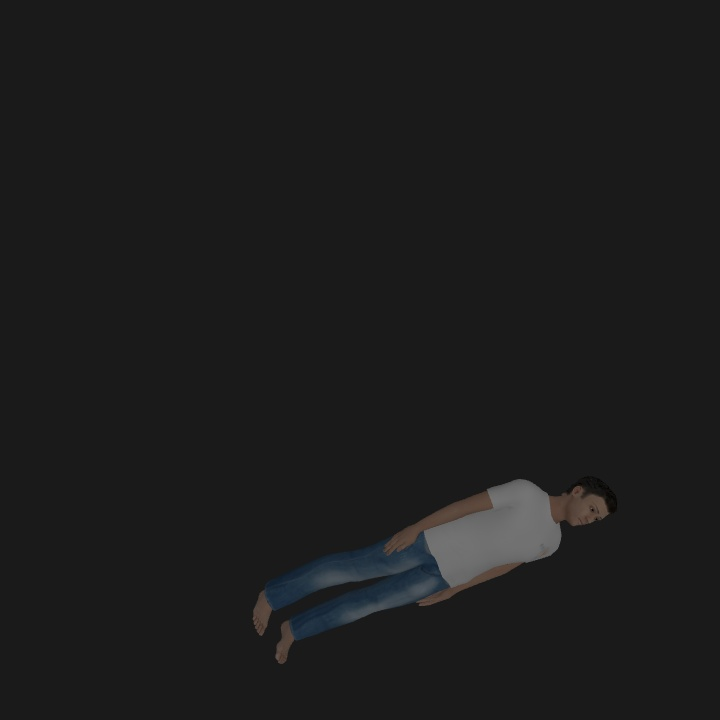victim: (254, 473, 616, 663)
